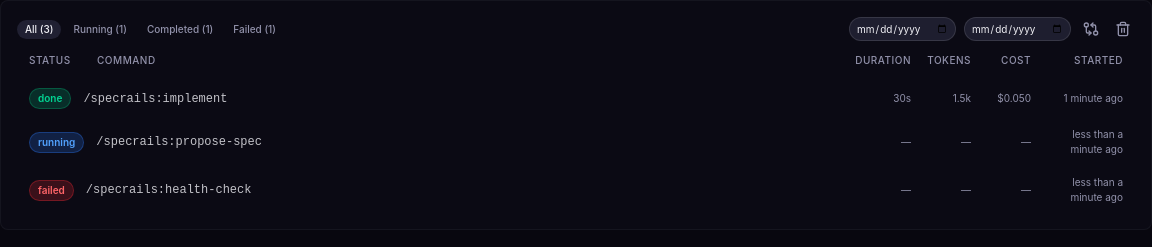
Test: RecentJobs › clicking same filter again deselects it (shows all)
What coordinates should you click on to do the following:
click the button "completed (1)"
I would click on:
 (180, 29)
Its box is [139,20,221,38].
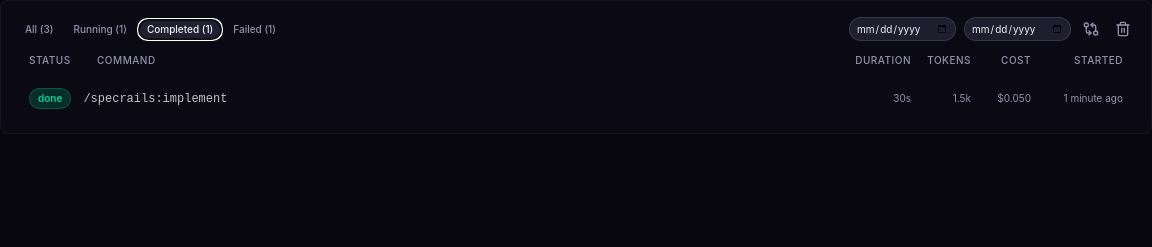
What coordinates should you click on to do the following:
click the button "completed (1)"
I would click on:
 (180, 29)
Its box is [139,20,221,38].
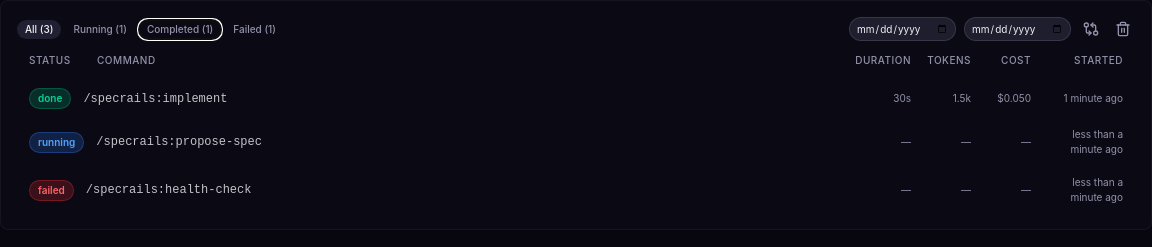
Expected: the text "/specrails:implement" is shown, [83,90,227,106]
Expected: the text "/specrails:propose-spec" is shown, [96,134,262,150]
Expected: the text "/specrails:health-check" is shown, [86,182,251,198]
